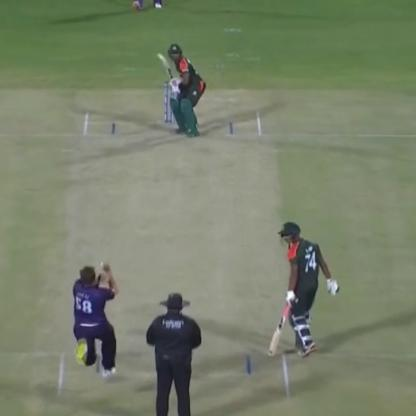ball: (95, 255, 113, 276)
bat: (145, 38, 181, 96), (264, 292, 295, 359)
pitch: (47, 108, 300, 408)
